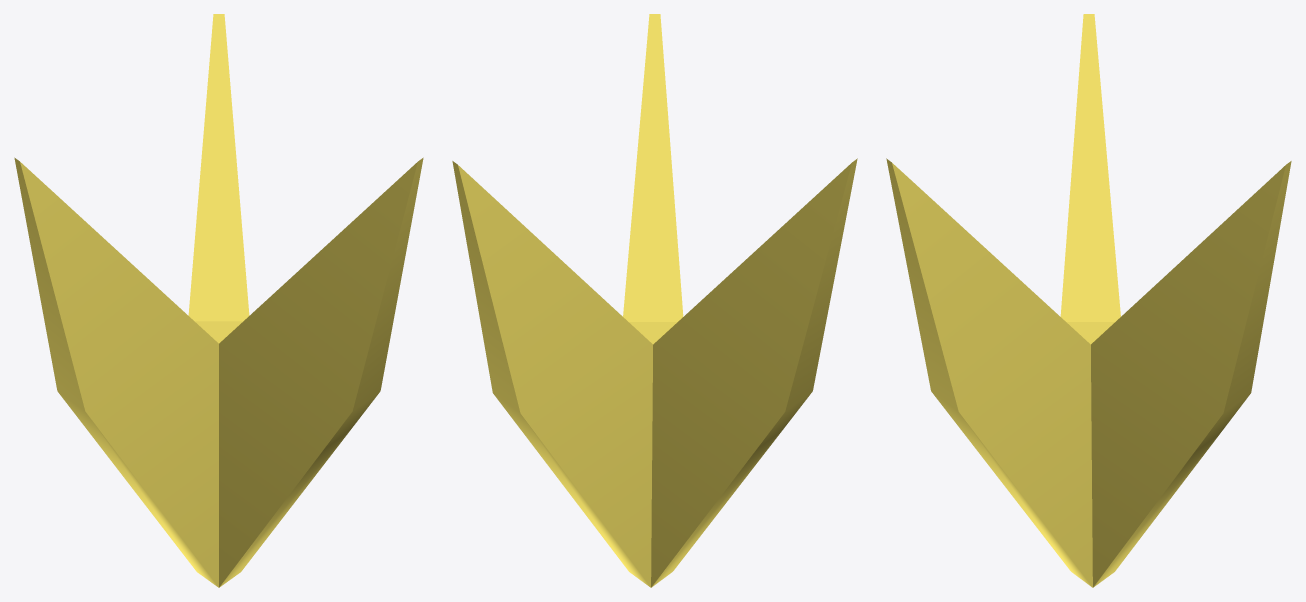
File: JianTou.FBX
3 views of the same model, side by side, from view 1: azimuth 30°, elevation 25°; view 2: azimuth 150°, elevation 25°; view 3: azimuth 270°, elevation 25° (orthographic).
Visible parts, largest first — view 1: 对象003; view 2: 对象003; view 3: 对象003.
Boxes of the visible parts, <box> form: 对象003: <box>14,14,423,587</box>; 对象003: <box>452,14,857,587</box>; 对象003: <box>886,14,1291,587</box>.
Bounding box in the file's own units: 5.87 × 8.57 × 6.77.
